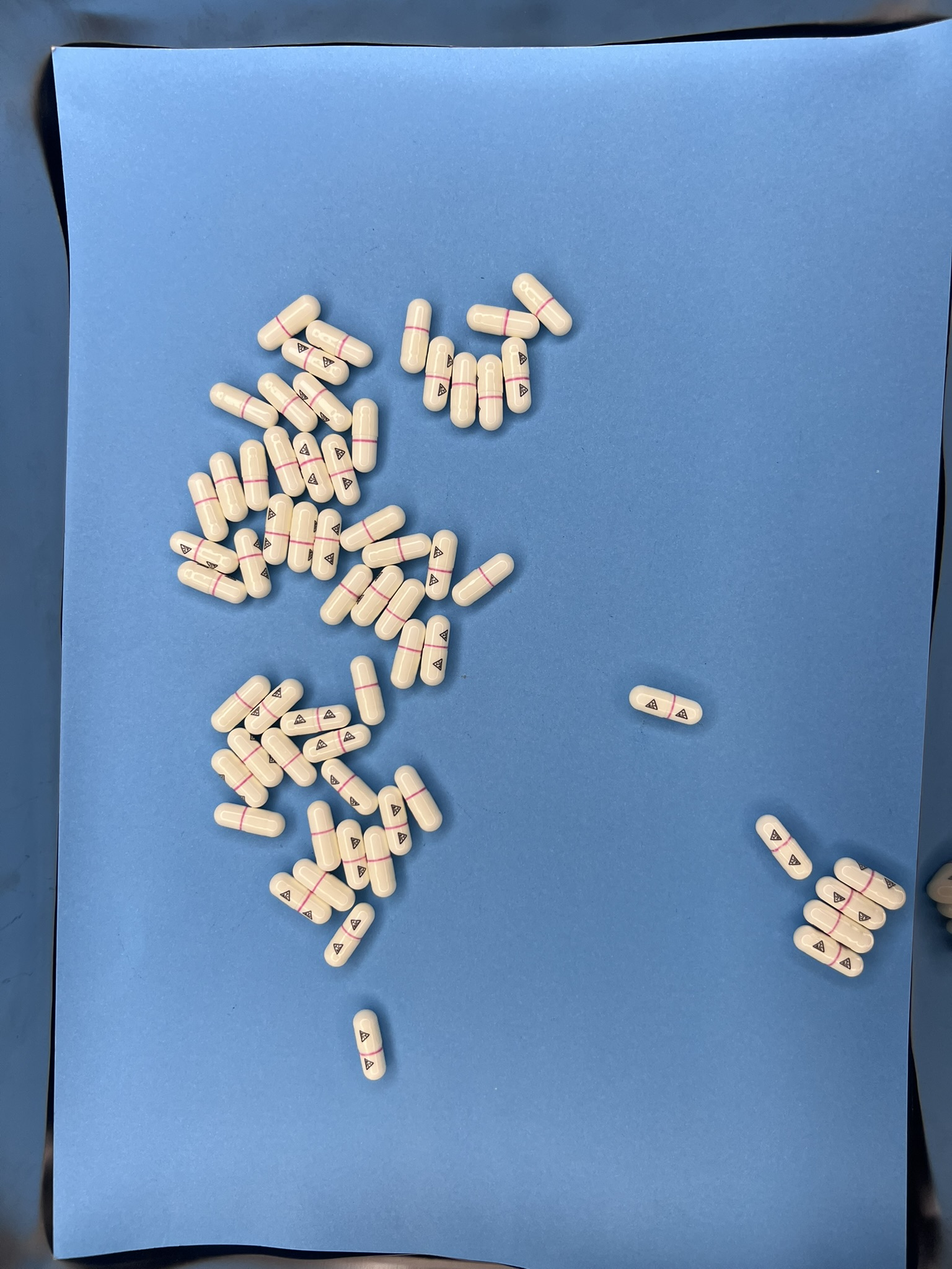Capsule: (513, 272, 575, 337), (833, 857, 906, 912), (803, 898, 873, 955), (794, 923, 864, 978), (816, 875, 887, 929), (257, 294, 321, 351), (755, 815, 809, 882), (451, 552, 515, 608), (325, 900, 376, 970), (258, 373, 317, 433), (306, 320, 375, 371), (210, 382, 279, 433), (210, 676, 270, 734), (293, 372, 350, 433), (292, 859, 354, 915), (320, 563, 374, 626), (268, 871, 332, 924), (211, 748, 266, 809), (350, 565, 404, 627), (261, 727, 315, 788), (340, 504, 408, 552), (374, 577, 425, 641), (627, 683, 704, 725), (395, 765, 442, 833), (321, 758, 378, 814), (245, 679, 304, 733), (282, 336, 348, 384), (170, 531, 239, 576), (176, 560, 246, 604), (227, 727, 279, 786), (263, 426, 303, 500), (187, 471, 229, 541), (208, 451, 248, 524), (466, 304, 540, 340), (322, 434, 359, 505), (388, 618, 425, 689), (293, 432, 331, 501), (215, 802, 286, 838), (350, 656, 386, 727), (235, 527, 271, 597), (304, 725, 370, 763), (282, 702, 353, 737), (363, 532, 431, 568), (336, 820, 370, 891), (400, 299, 432, 374), (307, 802, 341, 872), (424, 335, 455, 411), (378, 785, 412, 854), (239, 441, 272, 512), (502, 336, 532, 414), (364, 825, 396, 898), (353, 1011, 386, 1081), (426, 530, 458, 601), (351, 400, 380, 475), (311, 509, 342, 579), (450, 352, 478, 429), (288, 503, 318, 573), (264, 494, 294, 563), (477, 355, 504, 430), (419, 615, 447, 686)
